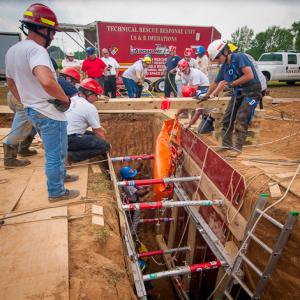blue: (122, 168, 137, 182), (196, 46, 206, 58), (87, 48, 96, 60)
none: (103, 49, 110, 59)
red: (21, 6, 59, 48), (79, 80, 102, 103), (61, 68, 82, 88), (183, 86, 198, 100), (179, 61, 191, 76), (168, 46, 178, 58), (184, 49, 194, 60)
white: (208, 40, 231, 64), (66, 50, 75, 61)
yellow: (229, 44, 238, 56), (143, 58, 152, 69)
